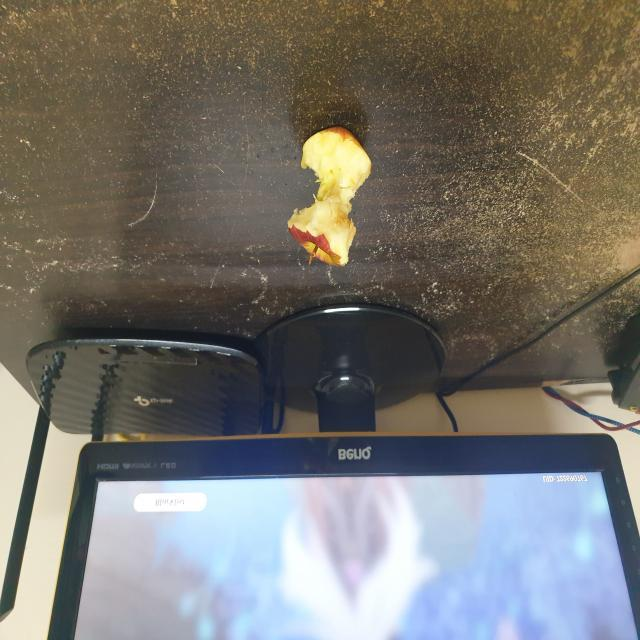apple: (284, 113, 378, 280)
